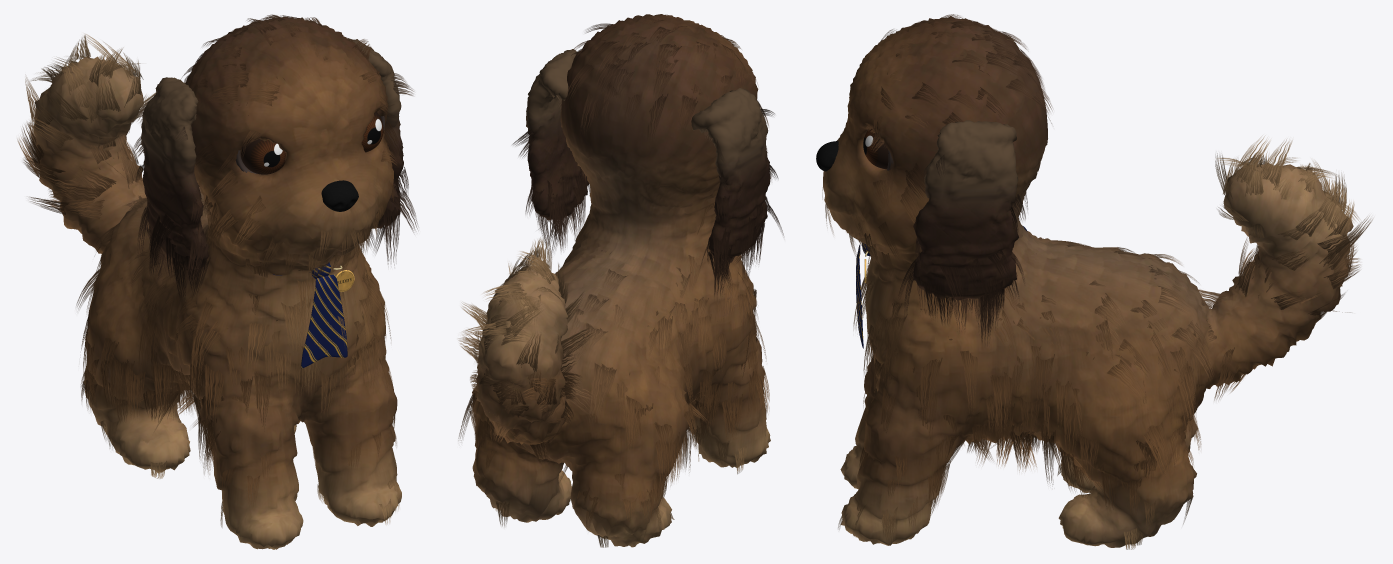
File: npc_buddy_review.glb
3 renders of one model, left to right at view 1: azimuth 30°, elevation 25°; view 2: azimuth 150°, elevation 25°; view 3: azimuth 270°, elevation 25°, orthographic. The views are drawn at different scales.
Visible parts, largest first — view 1: Buddy_Body, Buddy_FurCards, Buddy_Ear0, Buddy_Tie, Buddy_Ear1, Buddy_Eye0, Buddy_Nose, Buddy_Eye1; view 2: Buddy_Body, Buddy_FurCards, Buddy_Ear0, Buddy_Ear1; view 3: Buddy_Body, Buddy_FurCards, Buddy_Ear1, Buddy_Eye1.
Boxes of the visible parts, x1,y1,x2,y2 form: Buddy_Body: (33, 17, 401, 549); Buddy_FurCards: (17, 14, 418, 527); Buddy_Ear0: (141, 77, 209, 269); Buddy_Tie: (301, 274, 347, 368); Buddy_Ear1: (347, 38, 403, 228); Buddy_Eye0: (241, 138, 285, 174); Buddy_Nose: (321, 180, 358, 211); Buddy_Eye1: (361, 112, 383, 152); Buddy_Body: (472, 14, 770, 547); Buddy_FurCards: (458, 14, 783, 547); Buddy_Ear0: (691, 88, 770, 262); Buddy_Ear1: (526, 49, 589, 220); Buddy_Body: (823, 16, 1353, 547); Buddy_FurCards: (822, 14, 1372, 549); Buddy_Ear1: (913, 120, 1018, 301); Buddy_Eye1: (863, 129, 888, 169).
Bounding box in the file's own units: 0.3013 × 0.5643 × 0.5868.
10 materials, 8 textured.
